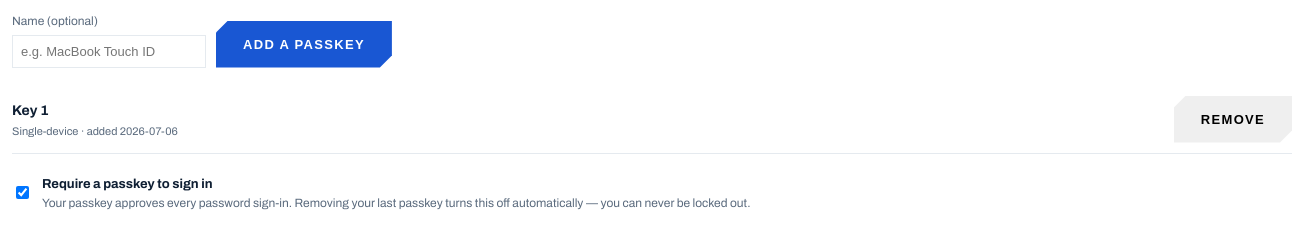
Test: PasskeysSurface › deleting the last passkey removes the row (and the server auto-disables the flag)
Expected: the list item with test id "passkey-row" is shown, [12,86,1292,154]
Expected: the checkbox with test id "passkey-2fa-toggle" is checked, [16,186,29,200]
Click the button with test id "passkey-delete" at (1233, 119), box [1174,96,1292,143]
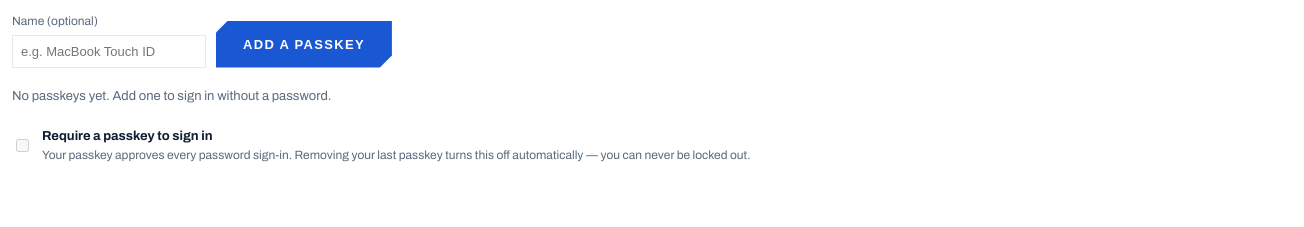
Result: the list item with test id "passkey-empty" is shown at [12,89,331,103]
Result: the checkbox with test id "passkey-2fa-toggle" is not checked at [16,139,29,152]
